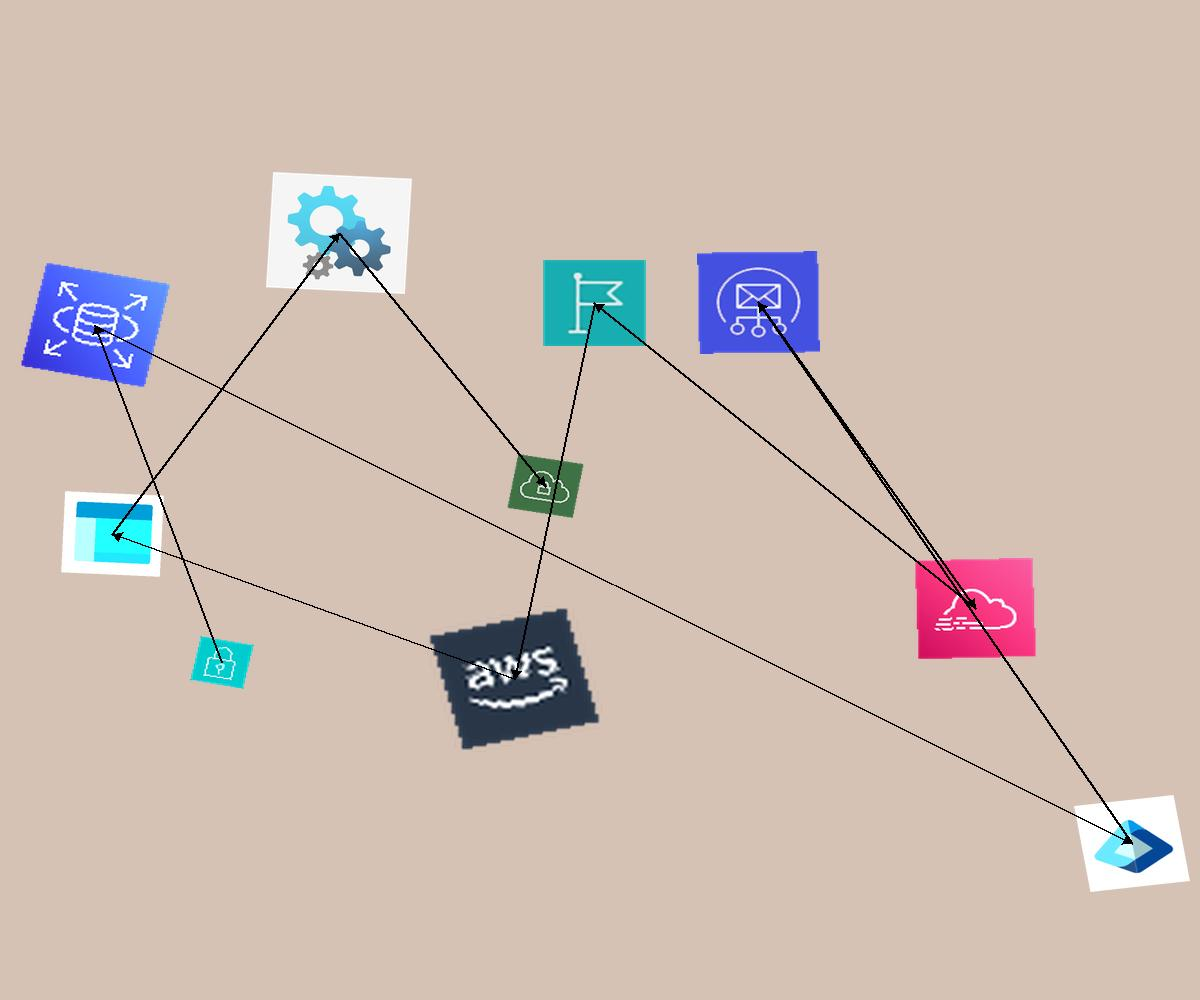AWS-Cloud-logo: (427, 606, 602, 752)
AWS-CloudTrail: (914, 557, 1037, 660)
AWS-Private-subnet: (190, 636, 254, 689)
AWS-Private_vpc: (507, 454, 584, 518)
AWS-RDS: (20, 262, 171, 388)
AWS-Region: (542, 259, 647, 347)
AWS-Simple-Email-Service: (697, 251, 820, 354)
Azure_api: (266, 172, 412, 294)
Azure_management-portal: (61, 491, 164, 577)
Azure_microsoft_entra: (1074, 795, 1190, 892)
